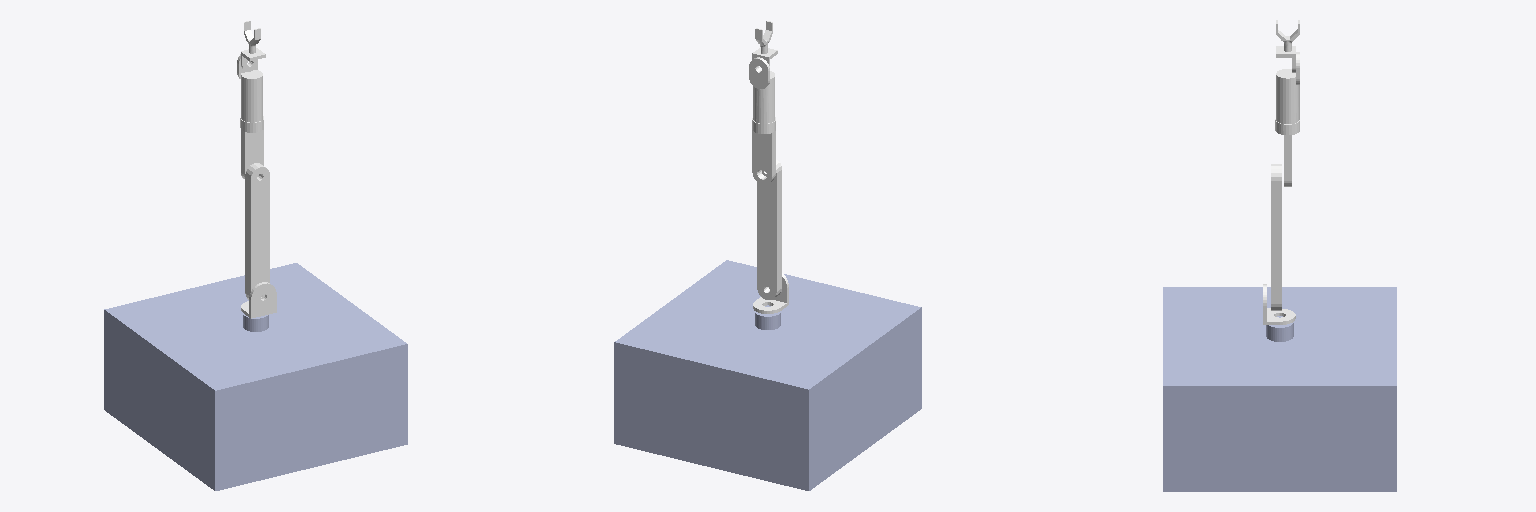
URDF robot description (arm):
<?xml version="1.0" encoding="utf-8"?>
<!-- This URDF was automatically created by SolidWorks to URDF Exporter! Originally created by [author] ([email redacted]) 
     Commit Version: 1.6.0-4-g7f85cfe  Build Version: 1.6.7995.38578
     For more information, please see http://wiki.ros.org/sw_urdf_exporter -->
<robot
  name="arm">
  <link
    name="base_link">
    <inertial>
      <origin
        xyz="0.3 -0.3 0.150241964992479"
        rpy="0 0 0" />
      <mass
        value="108.153938040026" />
      <inertia
        ixx="4.05006766859676"
        ixy="5.96236737040346E-17"
        ixz="-1.98291555702412E-16"
        iyy="4.05006766859676"
        iyz="1.48790520498712E-16"
        izz="6.48009428704952" />
    </inertial>
    <visual>
      <origin
        xyz="0 0 0"
        rpy="0 0 0" />
      <geometry>
        <mesh
          filename="package://arm_description/meshes/base_link.STL" />
      </geometry>
      <material
        name="">
        <color
          rgba="0.792156862745098 0.819607843137255 0.933333333333333 1" />
      </material>
    </visual>
    <collision>
      <origin
        xyz="0 0 0"
        rpy="0 0 0" />
      <geometry>
        <mesh
          filename="package://arm_description/meshes/base_link.STL" />
      </geometry>
    </collision>
  </link>
  <link
    name="link1">
    <inertial>
      <origin
        xyz="0.027879900764249 -5.55111512312578E-17 0.0223805358867052"
        rpy="0 0 0" />
      <mass
        value="0.10997530633327" />
      <inertia
        ixx="0.000113416478550938"
        ixy="7.68604581237048E-21"
        ixz="-3.77923375022149E-05"
        iyy="0.000140277105028251"
        iyz="-6.74441501657892E-21"
        izz="0.000140702050503476" />
    </inertial>
    <visual>
      <origin
        xyz="0 0 0"
        rpy="0 0 0" />
      <geometry>
        <mesh
          filename="package://arm_description/meshes/link1.STL" />
      </geometry>
      <material
        name="">
        <color
          rgba="1 1 1 1" />
      </material>
    </visual>
    <collision>
      <origin
        xyz="0 0 0"
        rpy="0 0 0" />
      <geometry>
        <mesh
          filename="package://arm_description/meshes/link1.STL" />
      </geometry>
    </collision>
  </link>
  <joint
    name="joint1"
    type="revolute">
    <origin
      xyz="0.3 -0.3 0.35"
      rpy="1.5708 -1.5708 0" />
    <parent
      link="base_link" />
    <child
      link="link1" />
    <axis
      xyz="1 0 0" />
    <limit
      lower="-3.14"
      upper="3.14"
      effort="100"
      velocity="100" />
  </joint>
  <link
    name="link2">
    <inertial>
      <origin
        xyz="0.175 0.0150000000000001 5.55111512312578E-17"
        rpy="0 0 0" />
      <mass
        value="0.695973445725386" />
      <inertia
        ixx="0.000259811944901924"
        ixy="-5.9240876142181E-19"
        ixz="-1.42013607458529E-18"
        iyy="0.00905591464828498"
        iyz="4.68349859133938E-20"
        izz="0.00890049872024186" />
    </inertial>
    <visual>
      <origin
        xyz="0 0 0"
        rpy="0 0 0" />
      <geometry>
        <mesh
          filename="package://arm_description/meshes/link2.STL" />
      </geometry>
      <material
        name="">
        <color
          rgba="1 1 1 1" />
      </material>
    </visual>
    <collision>
      <origin
        xyz="0 0 0"
        rpy="0 0 0" />
      <geometry>
        <mesh
          filename="package://arm_description/meshes/link2.STL" />
      </geometry>
    </collision>
  </link>
  <joint
    name="joint2"
    type="revolute">
    <origin
      xyz="0.0549999999999999 0 0.0239000000000001"
      rpy="-1.5707963267949 0 0" />
    <parent
      link="link1" />
    <child
      link="link2" />
    <axis
      xyz="0 1 0" />
    <limit
      lower="-3.14"
      upper="3.14"
      effort="100"
      velocity="100" />
  </joint>
  <link
    name="link3">
    <inertial>
      <origin
        xyz="0.011 0.0866621656130951 0"
        rpy="0 0 0" />
      <mass
        value="0.282057866614725" />
      <inertia
        ixx="0.00091666723607833"
        ixy="-1.23781996004548E-19"
        ixz="-5.53204332497181E-21"
        iyy="0.000113826214215689"
        iyz="9.52849345211767E-20"
        izz="0.000866955254620232" />
    </inertial>
    <visual>
      <origin
        xyz="0 0 0"
        rpy="0 0 0" />
      <geometry>
        <mesh
          filename="package://arm_description/meshes/link3.STL" />
      </geometry>
      <material
        name="">
        <color
          rgba="1 1 1 1" />
      </material>
    </visual>
    <collision>
      <origin
        xyz="0 0 0"
        rpy="0 0 0" />
      <geometry>
        <mesh
          filename="package://arm_description/meshes/link3.STL" />
      </geometry>
    </collision>
  </link>
  <joint
    name="joint3"
    type="revolute">
    <origin
      xyz="0.35 0.033 0"
      rpy="3.1416 0 1.5708" />
    <parent
      link="link2" />
    <child
      link="link3" />
    <axis
      xyz="1 0 0" />
    <limit
      lower="-3.14"
      upper="3.14"
      effort="100"
      velocity="100" />
  </joint>
  <link
    name="link4">
    <inertial>
      <origin
        xyz="0.0722067358006824 3.09175477997137E-08 0.00212519424079688"
        rpy="0 0 0" />
      <mass
        value="0.401387078802621" />
      <inertia
        ixx="0.000196053620635152"
        ixy="-3.94998604417473E-10"
        ixz="-6.65598685922249E-05"
        iyy="0.000861171635012986"
        iyz="-4.45831496816359E-10"
        izz="0.000851845195995295" />
    </inertial>
    <visual>
      <origin
        xyz="0 0 0"
        rpy="0 0 0" />
      <geometry>
        <mesh
          filename="package://arm_description/meshes/link4.STL" />
      </geometry>
      <material
        name="">
        <color
          rgba="1 1 1 1" />
      </material>
    </visual>
    <collision>
      <origin
        xyz="0 0 0"
        rpy="0 0 0" />
      <geometry>
        <mesh
          filename="package://arm_description/meshes/link4.STL" />
      </geometry>
    </collision>
  </link>
  <joint
    name="joint4"
    type="revolute">
    <origin
      xyz="0.011 0.159 0"
      rpy="1.5707963267949 0 1.5707963267949" />
    <parent
      link="link3" />
    <child
      link="link4" />
    <axis
      xyz="-1 0 0" />
    <limit
      lower="-3.14"
      upper="3.14"
      effort="100"
      velocity="100" />
  </joint>
  <link
    name="link5">
    <inertial>
      <origin
        xyz="0.0184980485294033 0 0.0157739679081105"
        rpy="0 0 0" />
      <mass
        value="0.0420342917352885" />
      <inertia
        ixx="1.91095293507794E-05"
        ixy="2.09484718938033E-21"
        ixz="-6.11471126206109E-06"
        iyy="2.26296969059062E-05"
        iyz="5.93312989901817E-21"
        izz="2.23156365322058E-05" />
    </inertial>
    <visual>
      <origin
        xyz="0 0 0"
        rpy="0 0 0" />
      <geometry>
        <mesh
          filename="package://arm_description/meshes/link5.STL" />
      </geometry>
      <material
        name="">
        <color
          rgba="1 1 1 1" />
      </material>
    </visual>
    <collision>
      <origin
        xyz="0 0 0"
        rpy="0 0 0" />
      <geometry>
        <mesh
          filename="package://arm_description/meshes/link5.STL" />
      </geometry>
    </collision>
  </link>
  <joint
    name="joint5"
    type="revolute">
    <origin
      xyz="0.158999999999999 0 0.0200000000000001"
      rpy="3.14159265358979 0 0" />
    <parent
      link="link4" />
    <child
      link="link5" />
    <axis
      xyz="0 0 -1" />
    <limit
      lower="-3.14"
      upper="3.14"
      effort="100"
      velocity="100" />
  </joint>
  <link
    name="link6">
    <inertial>
      <origin
        xyz="0.00641380078363607 6.39933767088152E-09 4.32451254805954E-08"
        rpy="0 0 0" />
      <mass
        value="0.0280261966981838" />
      <inertia
        ixx="9.24456809960761E-06"
        ixy="-2.97722840522379E-13"
        ixz="2.7058428511296E-14"
        iyy="1.94166779436113E-05"
        iyz="5.67782235089649E-12"
        izz="1.18514118922501E-05" />
    </inertial>
    <visual>
      <origin
        xyz="0 0 0"
        rpy="0 0 0" />
      <geometry>
        <mesh
          filename="package://arm_description/meshes/link6.STL" />
      </geometry>
      <material
        name="">
        <color
          rgba="1 1 1 1" />
      </material>
    </visual>
    <collision>
      <origin
        xyz="0 0 0"
        rpy="0 0 0" />
      <geometry>
        <mesh
          filename="package://arm_description/meshes/link6.STL" />
      </geometry>
    </collision>
  </link>
  <joint
    name="joint6"
    type="revolute">
    <origin
      xyz="0.0669999999999999 0 0.02"
      rpy="0 0 0" />
    <parent
      link="link5" />
    <child
      link="link6" />
    <axis
      xyz="-1 0 0" />
    <limit
      lower="-3.14"
      upper="3.14"
      effort="100"
      velocity="100" />
  </joint>
</robot>

--- Facts derived from the render (not from the file) ---
The picture shows the robot from 3 angles, left to right: view 1: azimuth 30°, elevation 25°; view 2: azimuth 150°, elevation 25°; view 3: azimuth 270°, elevation 25°; orthographic projection.
Robot: arm — 7 links, 6 joints (6 revolute); root link base_link; default pose: every joint at zero.
Visible links, largest first — view 1: base_link, link2, link4, link3, link1; view 2: base_link, link2, link3, link4, link1; view 3: base_link, link2, link4, link3, link1.
Link boxes in pixels (x1,y1,x2,y2): base_link: (104, 263, 407, 490); link2: (245, 163, 269, 299); link4: (237, 54, 262, 122); link3: (240, 116, 263, 178); link1: (241, 282, 276, 318); base_link: (614, 260, 921, 490); link2: (757, 159, 781, 299); link3: (752, 117, 775, 184); link4: (749, 57, 774, 123); link1: (753, 273, 788, 313); base_link: (1163, 287, 1396, 491); link2: (1271, 164, 1281, 310); link4: (1276, 52, 1299, 123); link3: (1275, 119, 1299, 186); link1: (1263, 284, 1295, 324).
Bounding box of the posed robot: 0.6 × 0.6 × 1.19 m (x, y, z).
7 mesh visuals loaded from 7 distinct referenced files (7 binary STL).